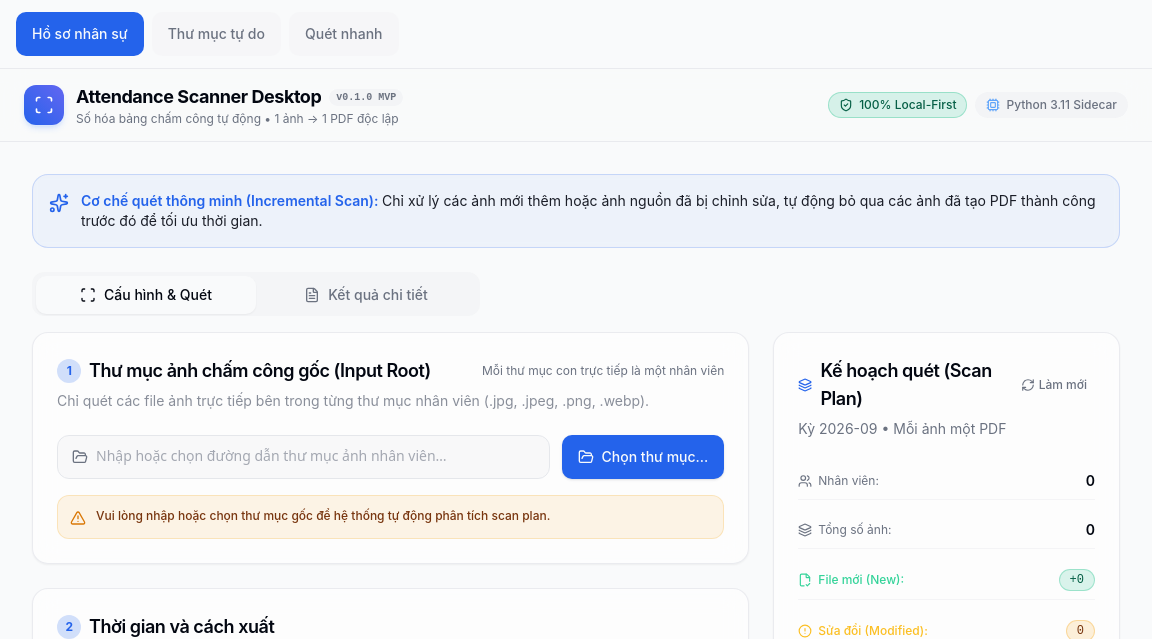
App scan plan states › renders a valid plan with warnings and enables scanning
Type "C:/Attendance Input" into the field with placeholder "Nhập hoặc chọn đường dẫn thư mục ảnh nhân viên…". click: (315, 457)
box: [96,447,535,467]
Wait 250 ms
(page scrolled)
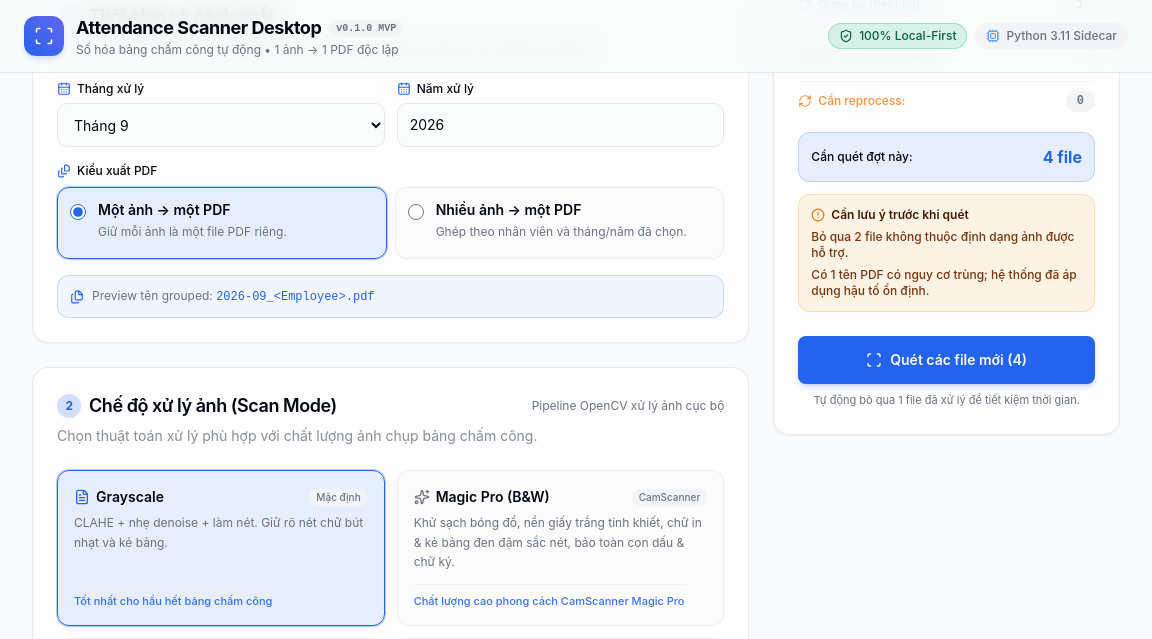
Result: the text "Bỏ qua 2 file không thuộc định dạng ảnh được hỗ trợ." is shown at [811,229,1082,261]
Result: the text "Có 1 tên PDF có nguy cơ trùng" is shown at [811,267,1082,299]
Result: the button "Quét các file mới (4)" is enabled at [798,336,1095,384]
